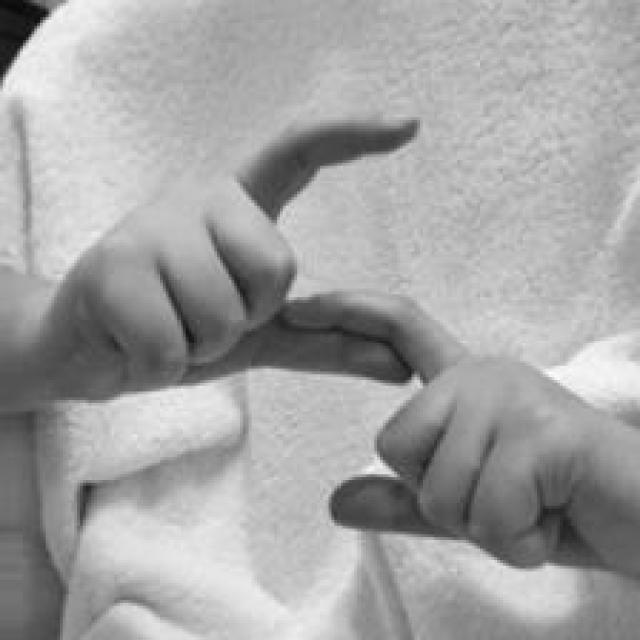S: (56, 110, 640, 582)
